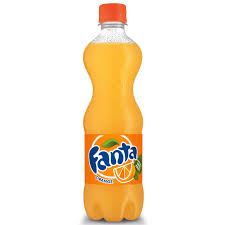fanta: (84, 3, 144, 223)
